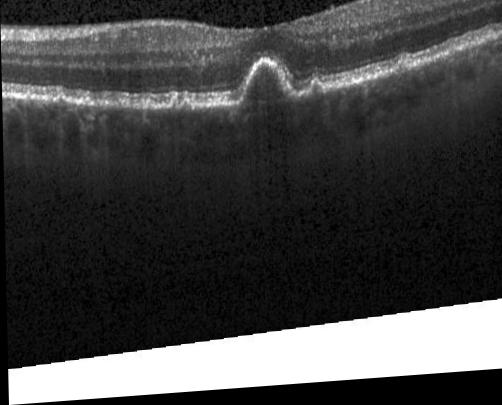retinal_drusen: (243, 66, 287, 108), (308, 85, 325, 101), (396, 66, 408, 79), (485, 36, 496, 48), (180, 103, 192, 113), (54, 95, 66, 105), (170, 102, 177, 112)
